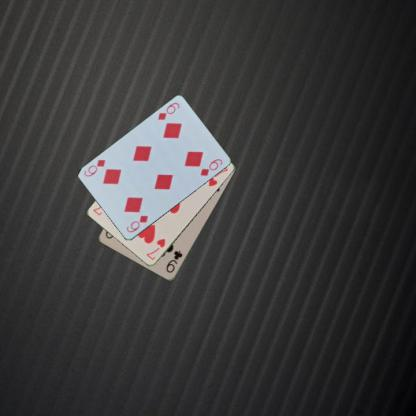6d: (155, 100, 181, 121), (124, 213, 149, 234)
7h: (144, 236, 166, 262)
9c: (164, 248, 184, 274)
